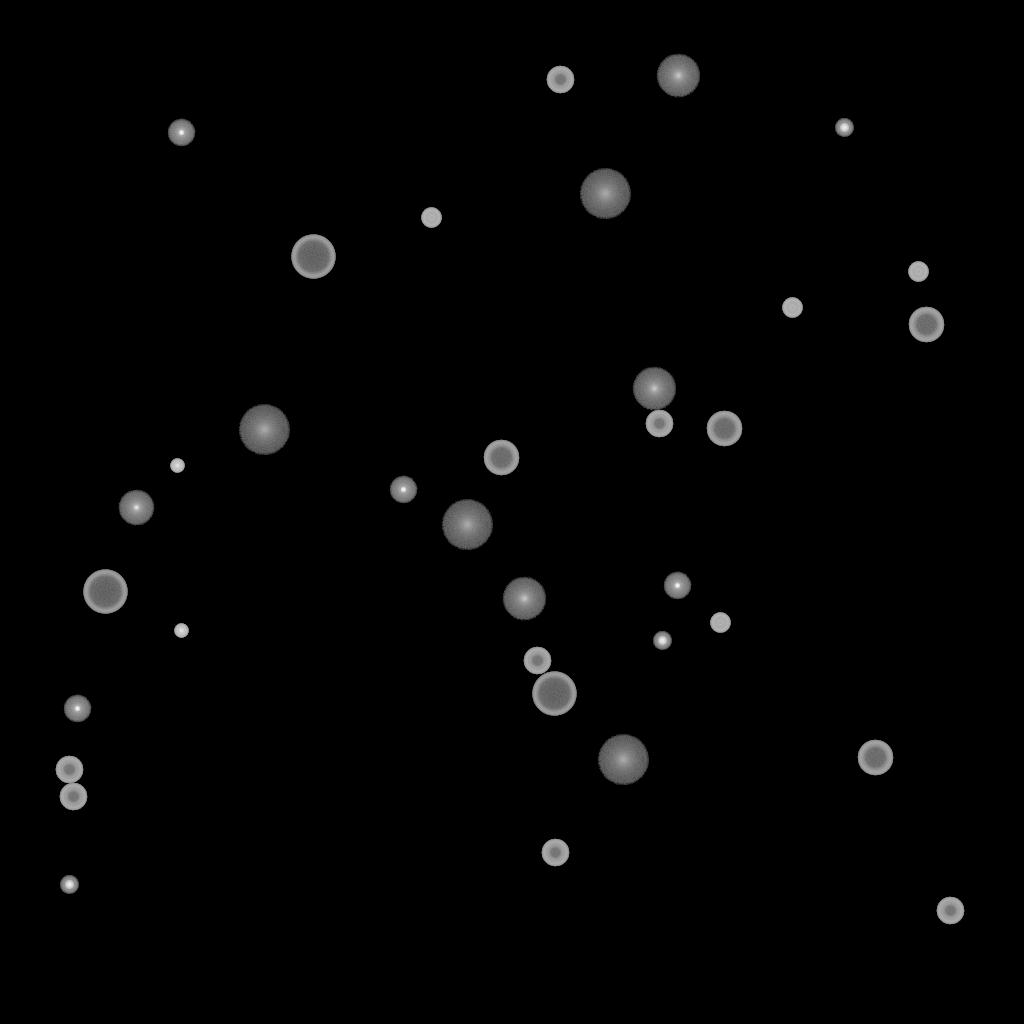depth:-10: (167, 119, 195, 147), (663, 572, 691, 600), (63, 695, 91, 723), (389, 476, 417, 504)
depth:-20: (835, 119, 853, 137), (653, 632, 671, 650), (60, 876, 78, 894)
depth:-30: (174, 624, 188, 638), (170, 459, 184, 473)
depth:-40: (421, 208, 441, 228), (782, 298, 802, 318), (908, 262, 928, 282), (710, 613, 730, 633)
depth:-50: (59, 783, 87, 811), (55, 756, 83, 784), (523, 647, 551, 675), (645, 410, 673, 438), (546, 66, 574, 94), (936, 897, 964, 925), (541, 839, 569, 867)
depth:-60: (483, 440, 519, 476), (908, 307, 944, 343), (857, 740, 893, 776), (706, 411, 742, 447)
depth:-70: (291, 235, 335, 279), (532, 672, 576, 716), (83, 570, 127, 614)
depth:0: (118, 490, 154, 526)
depth:10: (632, 367, 676, 411), (656, 54, 700, 98), (502, 577, 546, 621)
depth:20: (597, 735, 649, 785), (579, 169, 631, 219), (441, 500, 493, 550), (238, 405, 290, 455)
